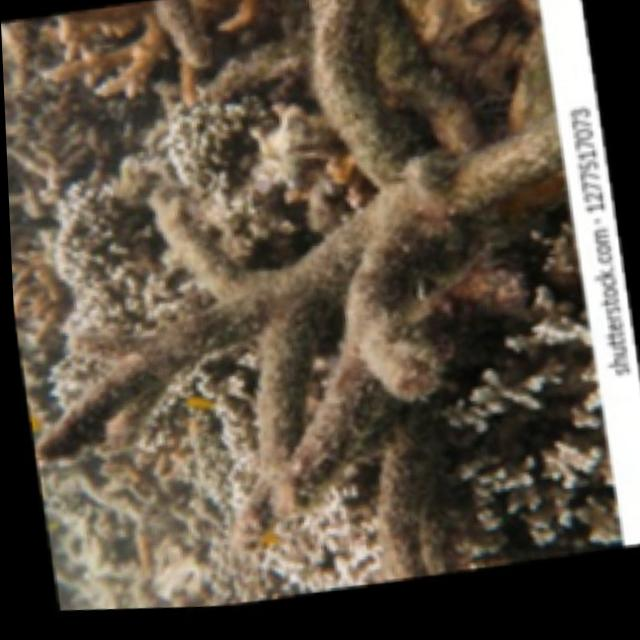Dead Coral: (0, 0, 598, 622)
